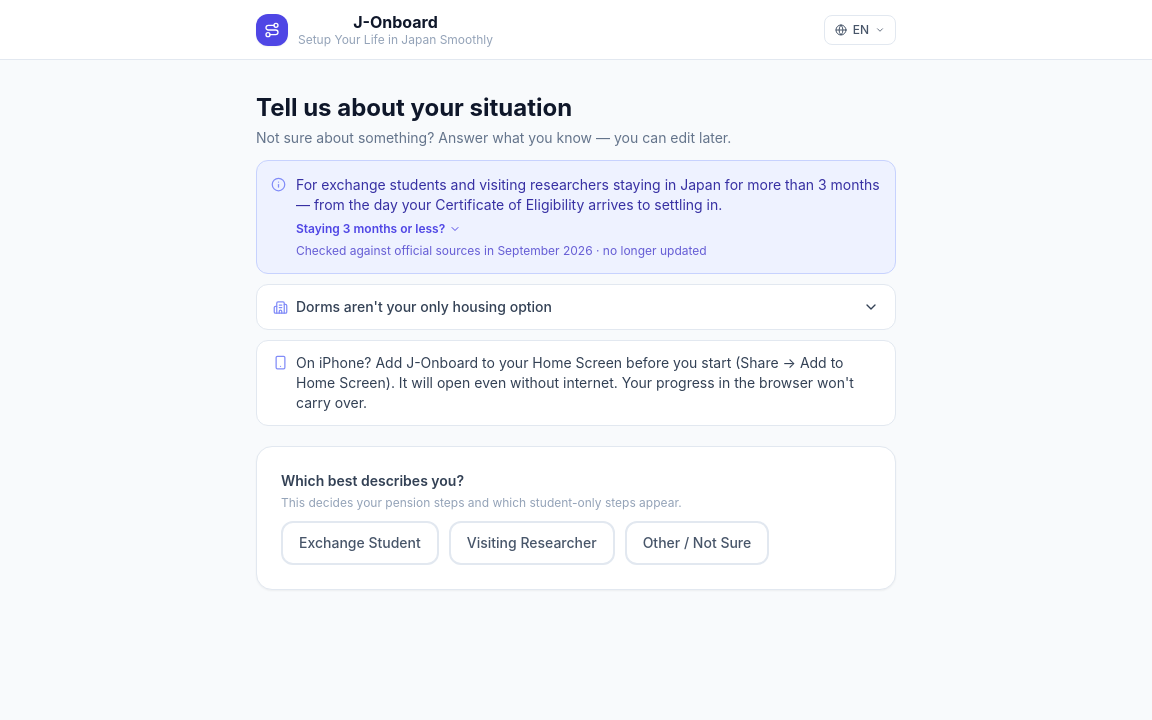
app › keeps Generate disabled until housing is answered
The width and height of the screenshot is (1152, 720).
Step 1. Click the button "Exchange Student" → (360, 543), box [281, 521, 439, 565]
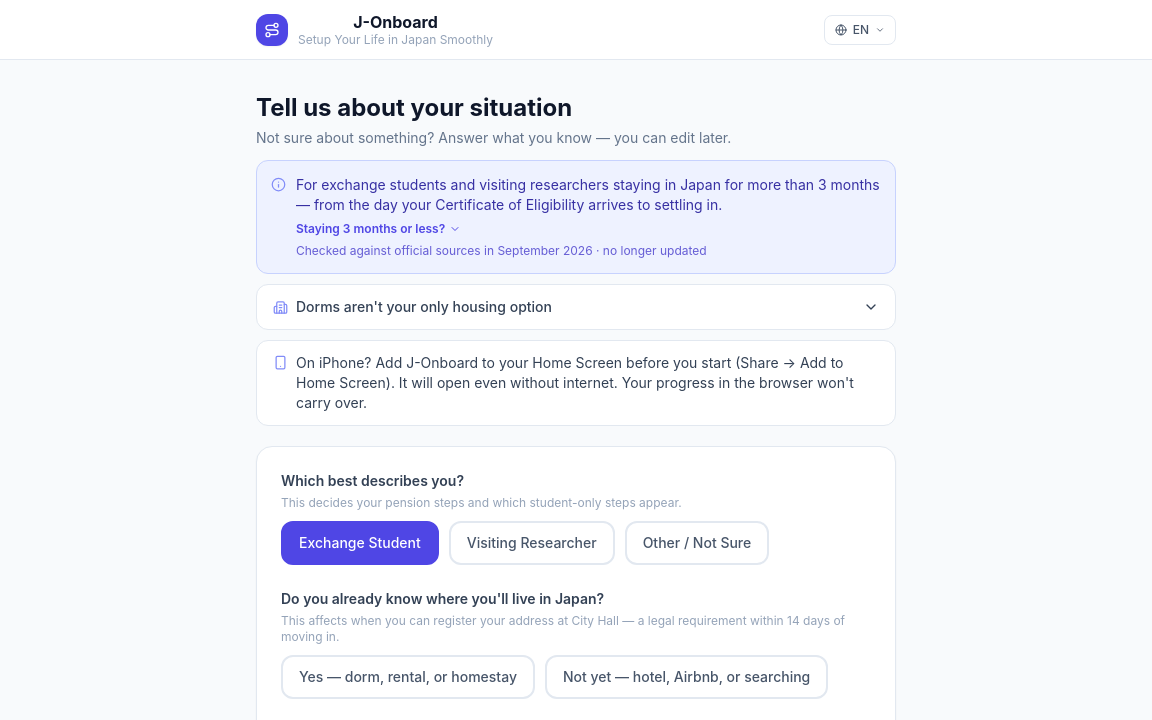
Step 2. Click the button "Yes — dorm, rental, or homestay" → (408, 677), box [281, 655, 535, 699]
(page scrolled)
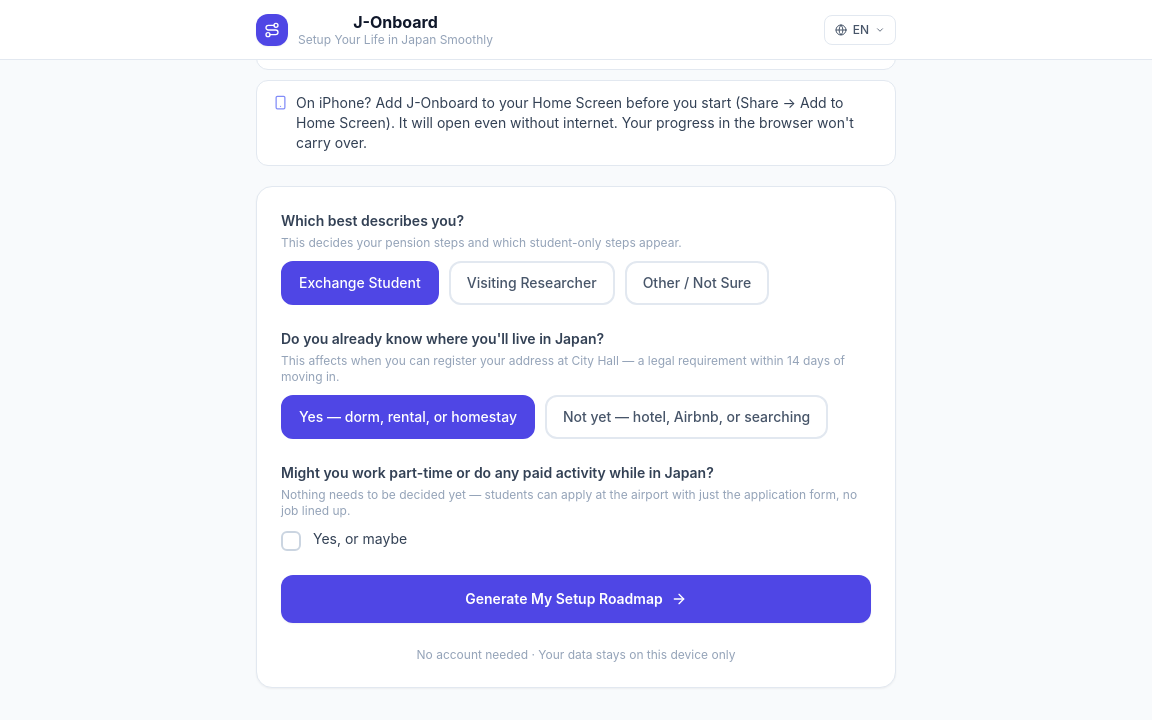
Check: the button "Generate My Setup Roadmap" is enabled, box [281, 575, 871, 623]
